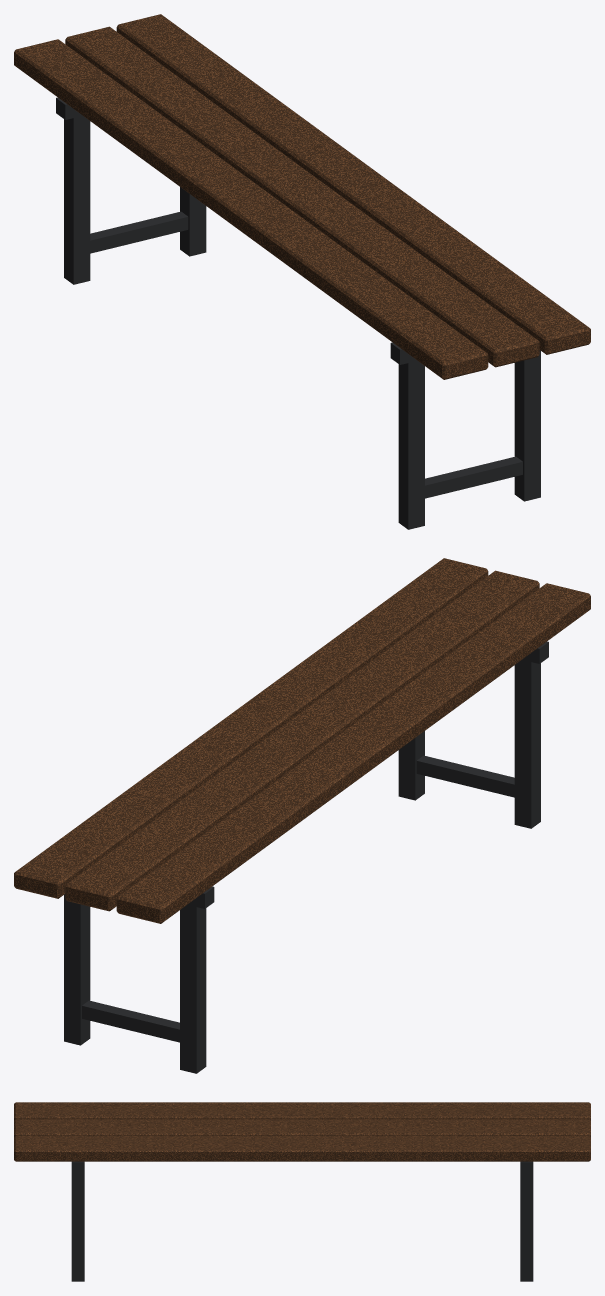
The model's file is Bench.gltf.
The picture shows the model from 3 angles, top to bottom: view 1: azimuth 30°, elevation 25°; view 2: azimuth 150°, elevation 25°; view 3: azimuth 270°, elevation 25°; orthographic projection. The views are drawn at different scales.
Visible parts, largest first — view 1: Bench; view 2: Bench; view 3: Bench.
Part boxes in pixels (<box>): Bench: <box>14,14,590,529</box>; Bench: <box>14,558,590,1073</box>; Bench: <box>14,1102,590,1281</box>.
Bounding box in the file's own units: 0.36 × 0.46 × 1.8.
Materials: 2 (1 with a texture image).
